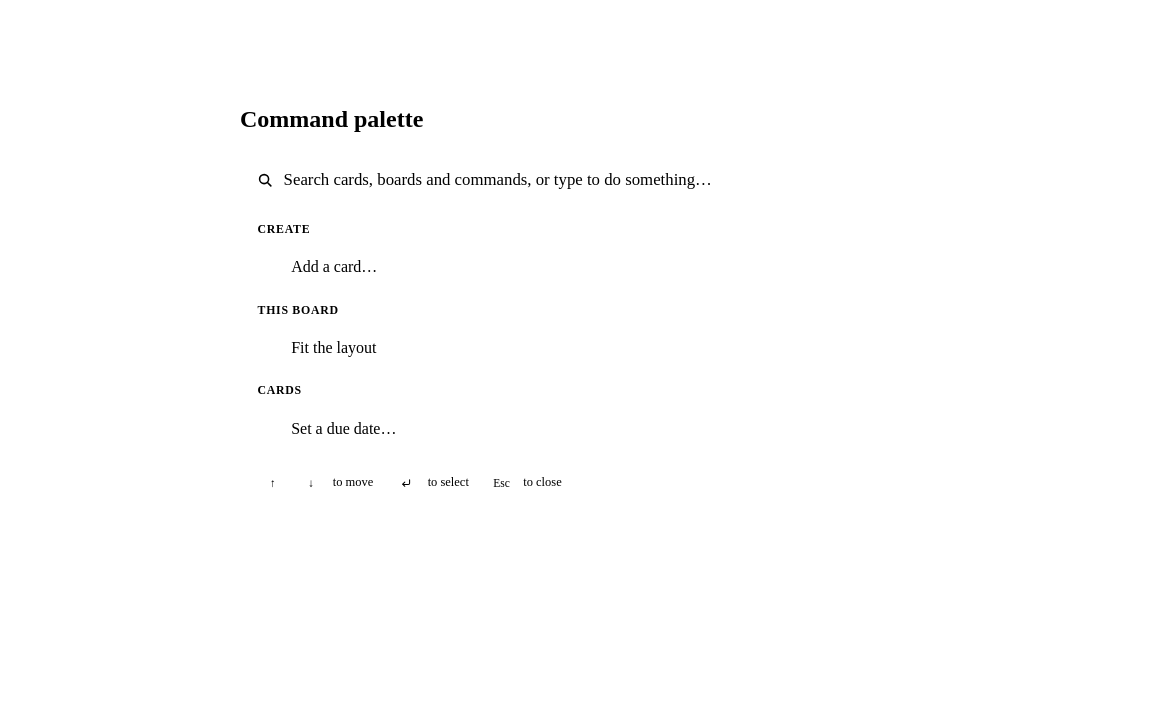
Test case: CommandPalette › says so when nothing matches
In the dropdown named "Search commands": [590, 180] box [284,153,896,208], type "zzzz"
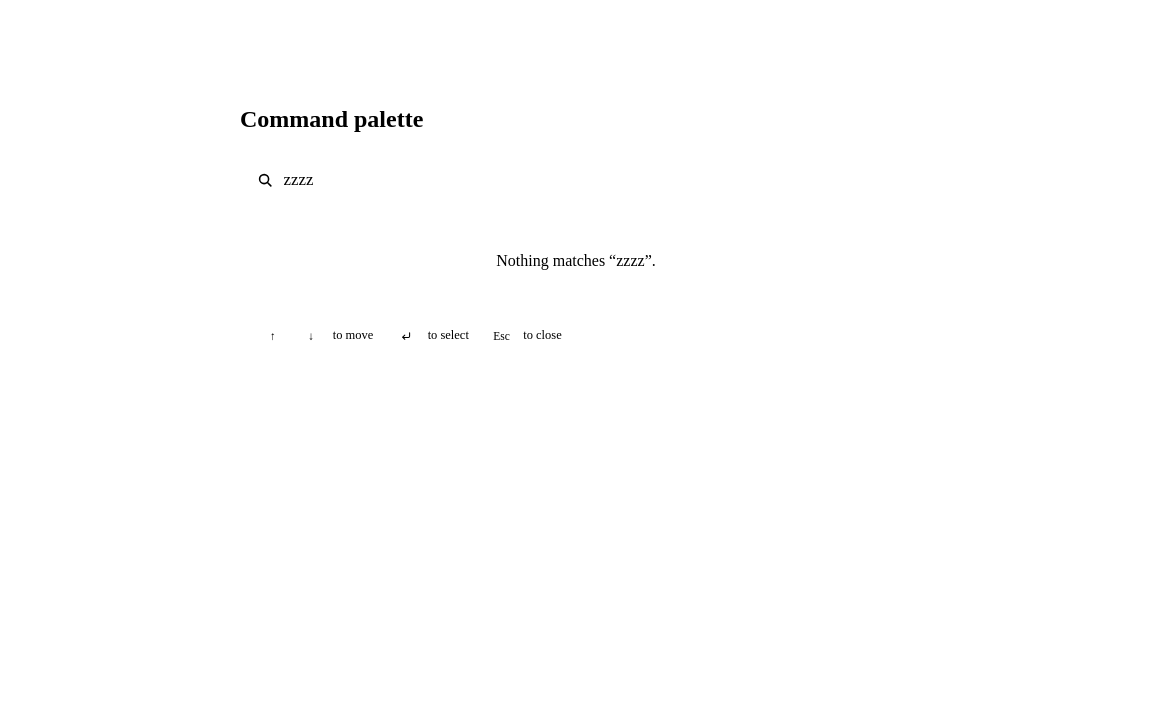
Expected: the text "Nothing matches “zzzz”." is shown, [496,252,656,269]
Expected: no options are shown
